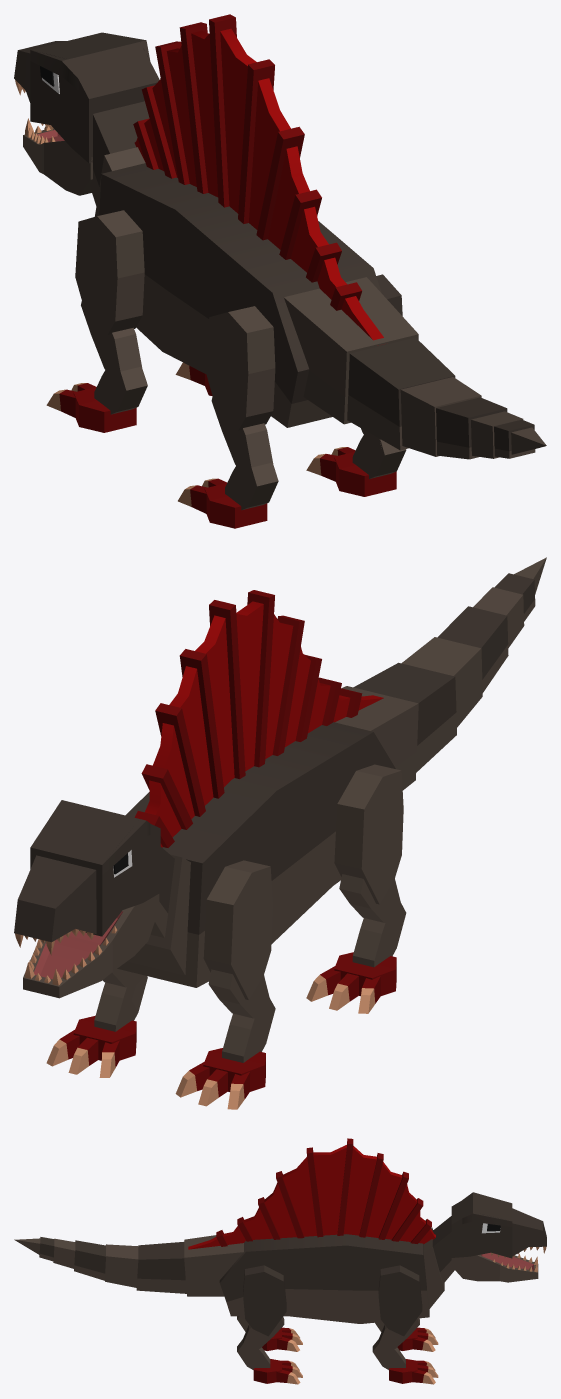
Rendered from dimetrodon_2.obj.
3 renders of one model, top to bottom at view 1: azimuth 30°, elevation 25°; view 2: azimuth 150°, elevation 25°; view 3: azimuth 270°, elevation 25°, orthographic. The views are drawn at different scales.
Visible parts, largest first — view 1: Torso, Head, Tail, LeftArm, LeftLeg, Meshes/set_12_Barosaurus_Skeleton_031, Meshes/set_12_Barosaurus_Skeleton_036, Neck, Meshes/set_12_Barosaurus_Skeleton_032, Meshes/set_12_Barosaurus_Skeleton_019, Meshes/set_12_Barosaurus_Skeleton_010, Meshes/set_12_Barosaurus_Skeleton_011 (+9 smaller); view 2: Torso, Head, LeftLeg, LeftArm, Meshes/set_12_Barosaurus_Skeleton_031, Tail, Meshes/set_12_Barosaurus_Skeleton_019, Meshes/set_12_Barosaurus_Skeleton_010, Meshes/set_12_Barosaurus_Skeleton_009, Meshes/set_3_Dimetrodon_042, Meshes/set_12_Barosaurus_Skeleton_036, Meshes/set_12_Barosaurus_Skeleton_032 (+8 smaller); view 3: Torso, Head, Tail, RightArm, RightLeg, Meshes/set_12_Barosaurus_Skeleton_031, Meshes/set_12_Barosaurus_Skeleton_036, Meshes/set_12_Barosaurus_Skeleton_032, Neck, Meshes/set_12_Barosaurus_Skeleton_011, Meshes/set_12_Barosaurus_Skeleton_009, Meshes/set_3_Dimetrodon_042 (+8 smaller).
Part boxes in pixels (bbox=[...]): Torso: bbox=[99, 14, 383, 427]; Head: bbox=[14, 32, 159, 195]; Tail: bbox=[284, 277, 418, 424]; LeftArm: bbox=[75, 210, 144, 337]; LeftLeg: bbox=[206, 306, 275, 433]; Meshes/set_12_Barosaurus_Skeleton_031: bbox=[347, 337, 455, 450]; Meshes/set_12_Barosaurus_Skeleton_036: bbox=[400, 377, 481, 456]; Neck: bbox=[89, 101, 149, 205]; Meshes/set_12_Barosaurus_Skeleton_032: bbox=[436, 397, 507, 459]; Meshes/set_12_Barosaurus_Skeleton_019: bbox=[46, 383, 136, 432]; Meshes/set_12_Barosaurus_Skeleton_010: bbox=[178, 478, 267, 528]; Meshes/set_12_Barosaurus_Skeleton_011: bbox=[306, 447, 396, 496]; Torso: bbox=[117, 590, 395, 987]; Head: bbox=[14, 800, 160, 998]; LeftLeg: bbox=[334, 764, 403, 904]; LeftArm: bbox=[203, 860, 272, 999]; Meshes/set_12_Barosaurus_Skeleton_031: bbox=[353, 662, 456, 772]; Tail: bbox=[335, 686, 418, 790]; Meshes/set_12_Barosaurus_Skeleton_019: bbox=[175, 1048, 265, 1109]; Meshes/set_12_Barosaurus_Skeleton_010: bbox=[306, 952, 396, 1013]; Meshes/set_12_Barosaurus_Skeleton_009: bbox=[46, 1015, 136, 1077]; Meshes/set_3_Dimetrodon_042: bbox=[127, 854, 190, 975]; Meshes/set_12_Barosaurus_Skeleton_036: bbox=[401, 637, 482, 727]; Meshes/set_12_Barosaurus_Skeleton_032: bbox=[437, 606, 508, 692]; Torso: bbox=[188, 1138, 435, 1323]; Head: bbox=[451, 1192, 546, 1282]; Tail: bbox=[184, 1235, 243, 1296]; RightArm: bbox=[378, 1265, 422, 1336]; RightLeg: bbox=[243, 1265, 286, 1336]; Meshes/set_12_Barosaurus_Skeleton_031: bbox=[136, 1242, 186, 1293]; Meshes/set_12_Barosaurus_Skeleton_036: bbox=[105, 1244, 138, 1287]; Meshes/set_12_Barosaurus_Skeleton_032: bbox=[74, 1240, 105, 1280]; Neck: bbox=[432, 1216, 454, 1283]; Meshes/set_12_Barosaurus_Skeleton_011: bbox=[253, 1359, 302, 1384]; Meshes/set_12_Barosaurus_Skeleton_009: bbox=[389, 1359, 438, 1384]; Meshes/set_3_Dimetrodon_042: bbox=[423, 1227, 444, 1308].
Size of the model in its own units: 3.82 by 8.09 by 17.82.
